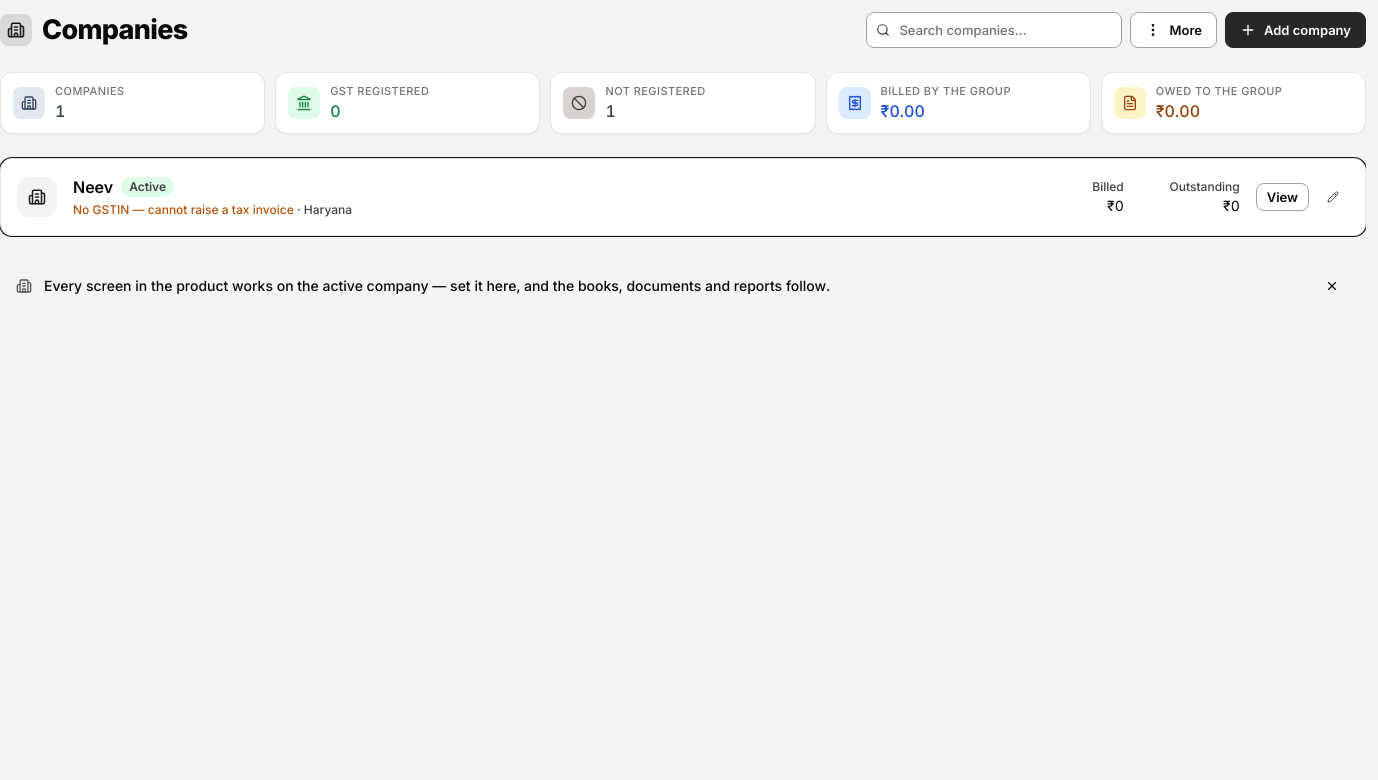
Test: Add company › offers a control to add one at all
Click the button "Add company".
click(1296, 30)  # box [1225,12,1366,48]
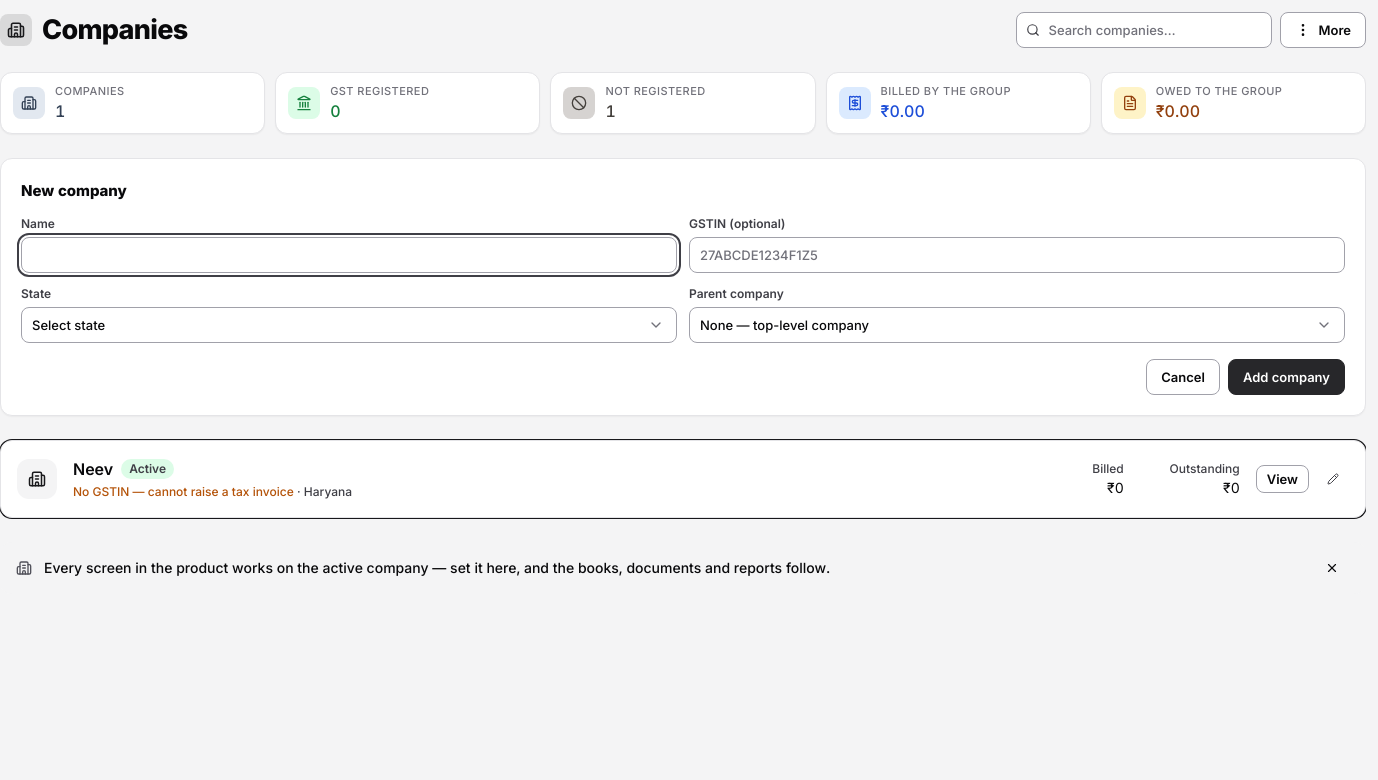
Expected: the heading "New company" is shown, [21,181,127,200]
